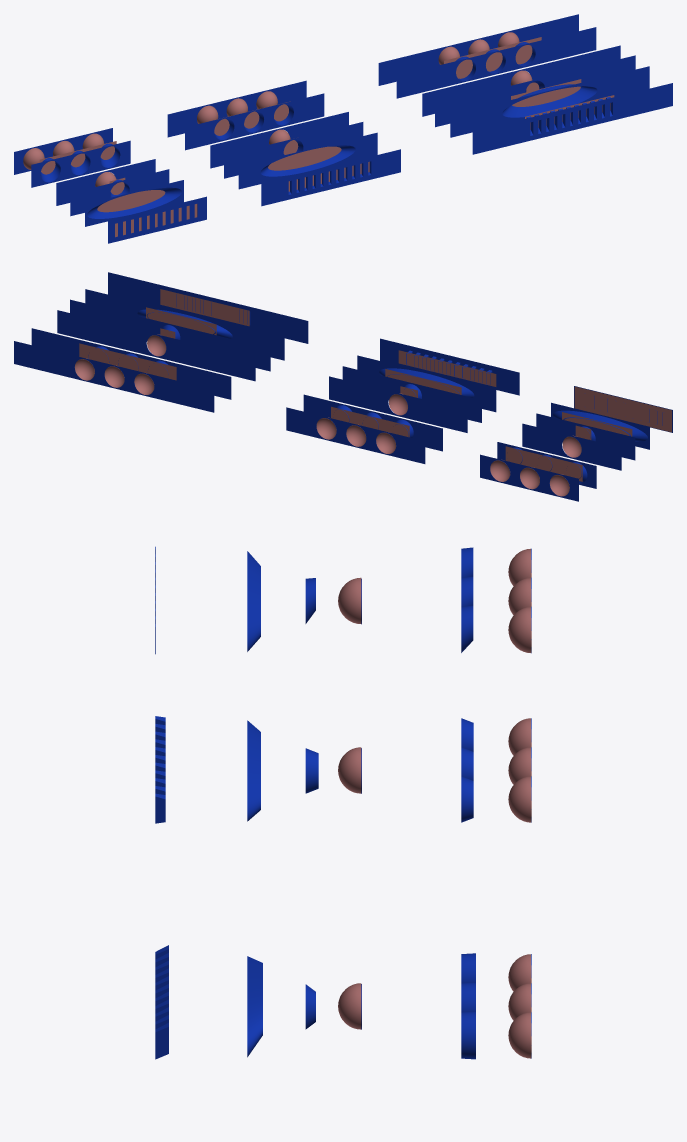
File: Window Walls 10 Height.FBX
3 renders of one model, top to bottom at view 1: azimuth 30°, elevation 25°; view 2: azimuth 150°, elevation 25°; view 3: azimuth 270°, elevation 25°, orthographic. The views are drawn at different scales.
Visible parts, largest first — view 1: Box070, Med Wall 10 Windows002, Med Wall Large oval Window002, Box065, Box041, Med Wall 10 Windows001, Med Wall Large oval Window001, Box066, Box071, Box012, Box036, Med Wall 10 Windows (+6 smaller); view 2: Box065, Box066, Med Wall 10 Windows002, Box070, Box036, Box037, Med Wall 10 Windows001, Med Wall Large oval Window002, Box071, Box041, Box007, Box006 (+6 smaller); view 3: Box006, Box065, Box036, Box070, Med Wall 10 Windows002, Med Wall Large oval Window002, Box041, Box012, Med Wall Large oval Window001, Med Wall Large oval Window, Med Wall 10 Windows001, Box066 (+2 smaller).
Part boxes in pixels (x1,y1,x2,y2): Box070: [396, 27, 596, 98]; Med Wall 10 Windows002: [472, 83, 672, 154]; Med Wall Large oval Window002: [450, 66, 649, 137]; Box065: [378, 14, 578, 85]; Box041: [185, 93, 324, 150]; Med Wall 10 Windows001: [261, 149, 400, 206]; Med Wall Large oval Window001: [238, 132, 377, 189]; Box066: [422, 45, 620, 116]; Box071: [435, 55, 635, 127]; Box012: [31, 140, 130, 187]; Box036: [167, 80, 306, 137]; Med Wall 10 Windows: [108, 196, 206, 243]; Box065: [14, 341, 214, 412]; Box066: [57, 310, 255, 381]; Med Wall 10 Windows002: [108, 272, 308, 343]; Box070: [31, 328, 231, 399]; Box036: [286, 407, 425, 463]; Box037: [329, 376, 467, 432]; Med Wall 10 Windows001: [380, 338, 519, 395]; Med Wall Large oval Window002: [85, 289, 284, 360]; Box071: [70, 299, 270, 371]; Box041: [303, 394, 442, 451]; Box007: [522, 423, 621, 470]; Box006: [480, 454, 578, 501]; Box006: [508, 548, 531, 653]; Box065: [508, 954, 531, 1058]; Box036: [508, 718, 531, 822]; Box070: [461, 953, 475, 1059]; Med Wall 10 Windows002: [155, 945, 168, 1059]; Med Wall Large oval Window002: [247, 956, 262, 1057]; Box041: [461, 718, 473, 822]; Box012: [461, 547, 473, 652]; Med Wall Large oval Window001: [247, 720, 260, 821]; Med Wall Large oval Window: [247, 551, 260, 651]; Med Wall 10 Windows001: [155, 716, 165, 823]; Box066: [338, 983, 361, 1029].
Size of the model in its own units: 257 by 10.14 by 73.99.
